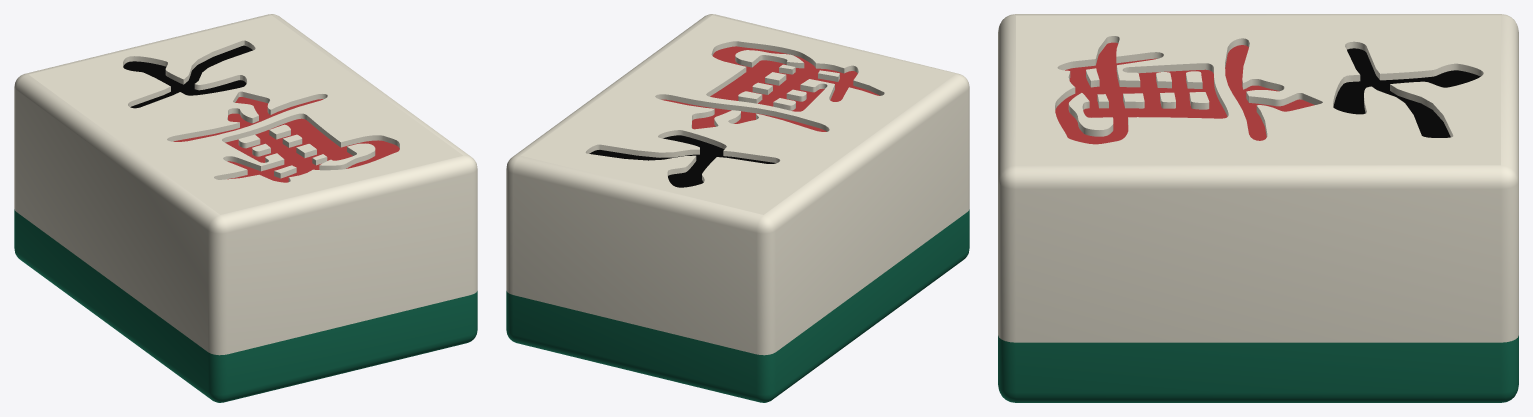
The model's file is Man7.glb.
The picture shows the model from 3 angles, left to right: view 1: azimuth 30°, elevation 25°; view 2: azimuth 150°, elevation 25°; view 3: azimuth 270°, elevation 25°; orthographic projection. The views are drawn at different scales.
Visible parts, largest first — view 1: Man7_body, Man7_inset; view 2: Man7_body, Man7_inset; view 3: Man7_body, Man7_inset.
Part boxes in pixels (box(x1,y1,x2,y2)): Man7_body: box(14, 14, 477, 402); Man7_inset: box(123, 45, 399, 182); Man7_body: box(506, 14, 969, 402); Man7_inset: box(589, 46, 879, 187); Man7_body: box(998, 14, 1518, 402); Man7_inset: box(1055, 42, 1480, 144).
Size of the model in its own units: 0.024 by 0.016 by 0.032.
